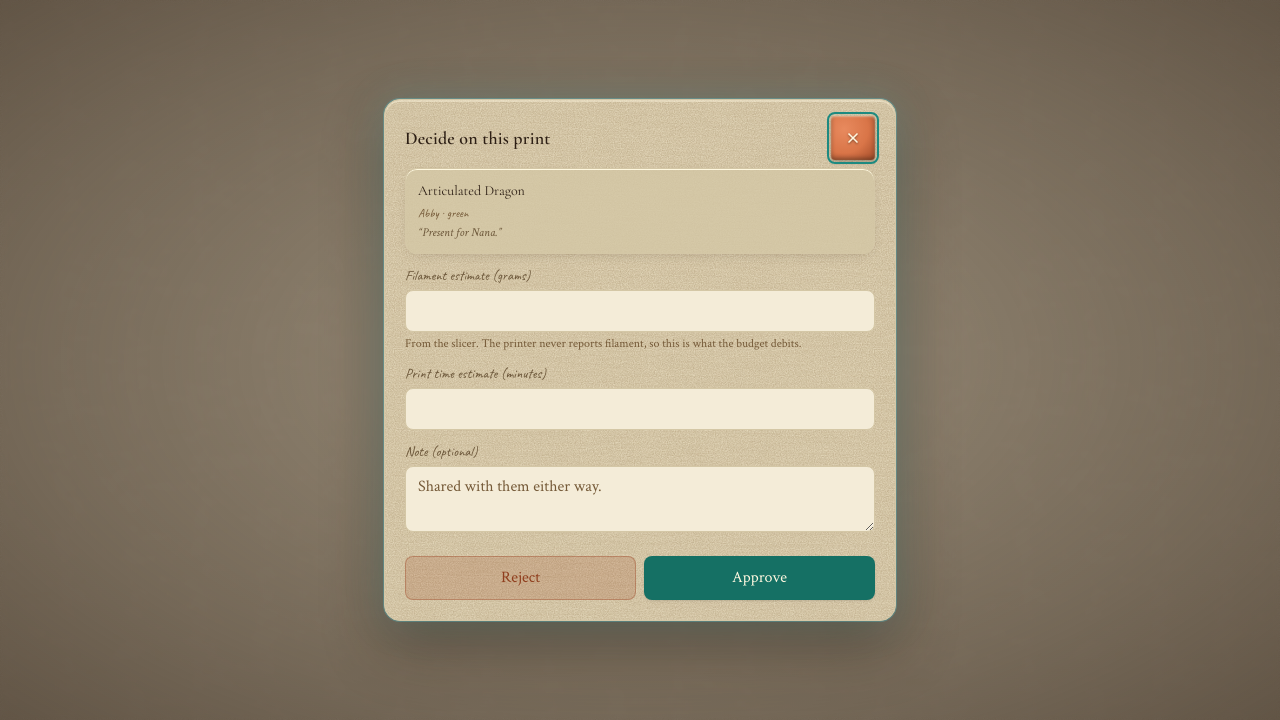
it: ApprovalSheet › shows the minted plate filename after a successful approve
Step 1. Click the button "Approve" → (760, 578), box [644, 556, 875, 600]
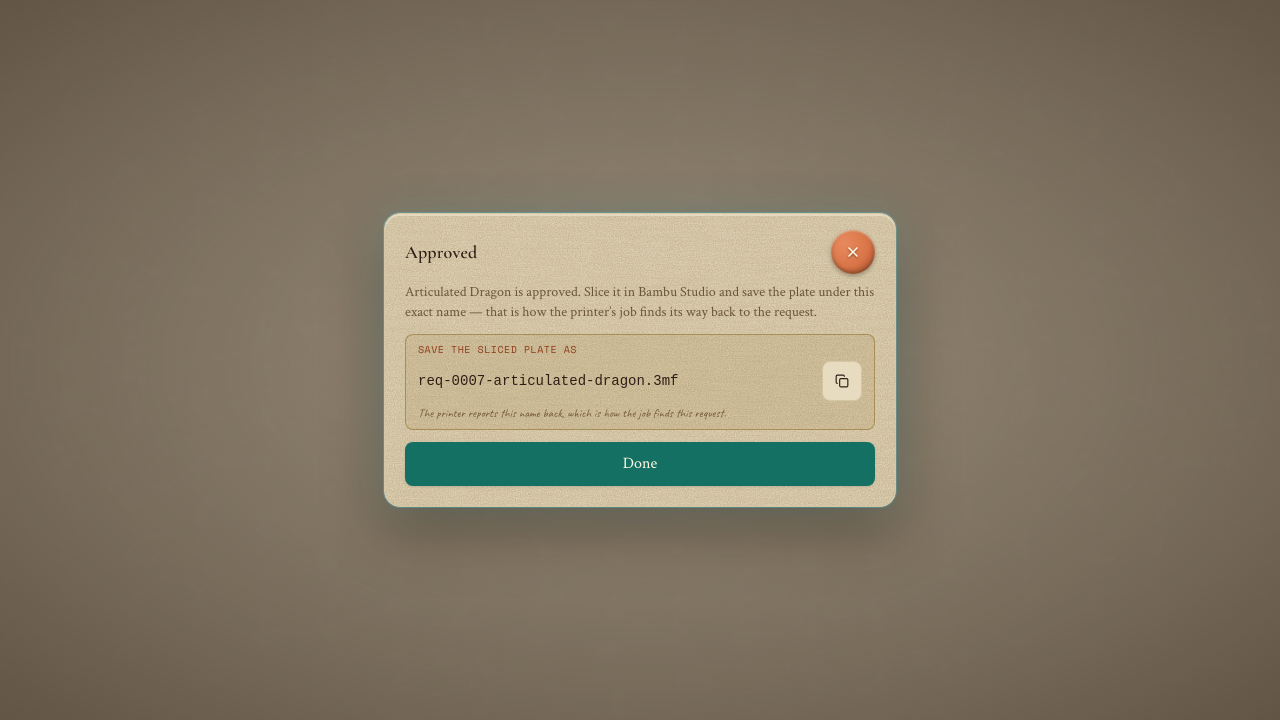
expect the text "req-0007-articulated-dragon.3mf" is shown: met, box [418, 373, 678, 389]
